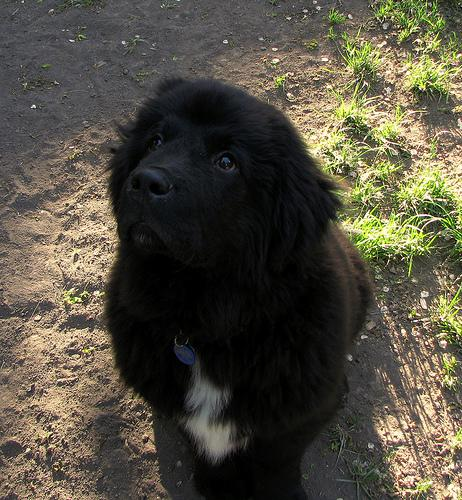dog: (111, 79, 328, 266)
